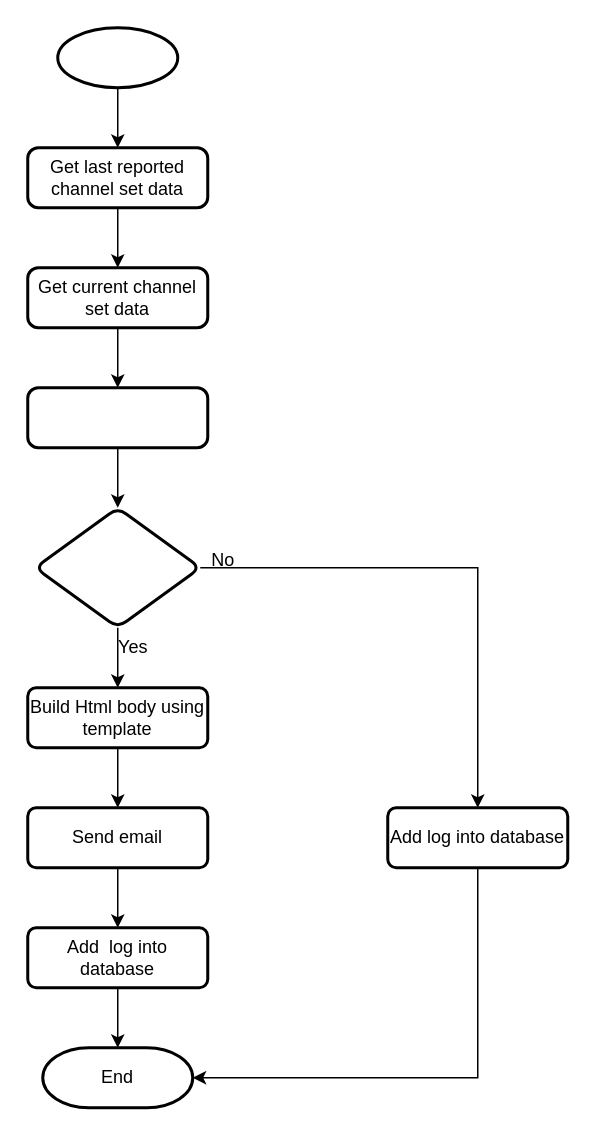
Some shapes in this 594 by 1134 pixel diagram are drawn without their labels. Here are the shapes that lost their labels. From the top down, the centre of each, then its label:
the point at 117,57: Start
the point at 117,417: Get new channels
the point at 117,567: Any new Channel
